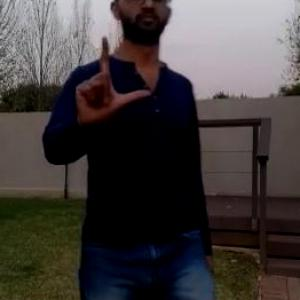land_hand: (73, 28, 157, 132)
